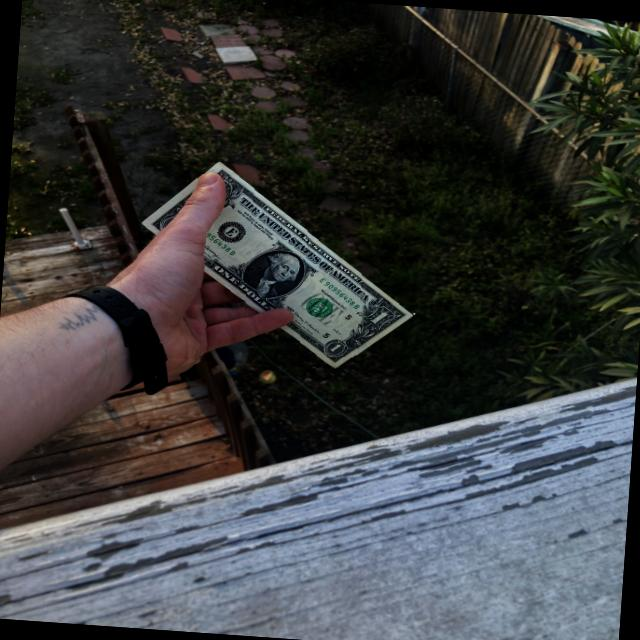one: (140, 146, 414, 392)
